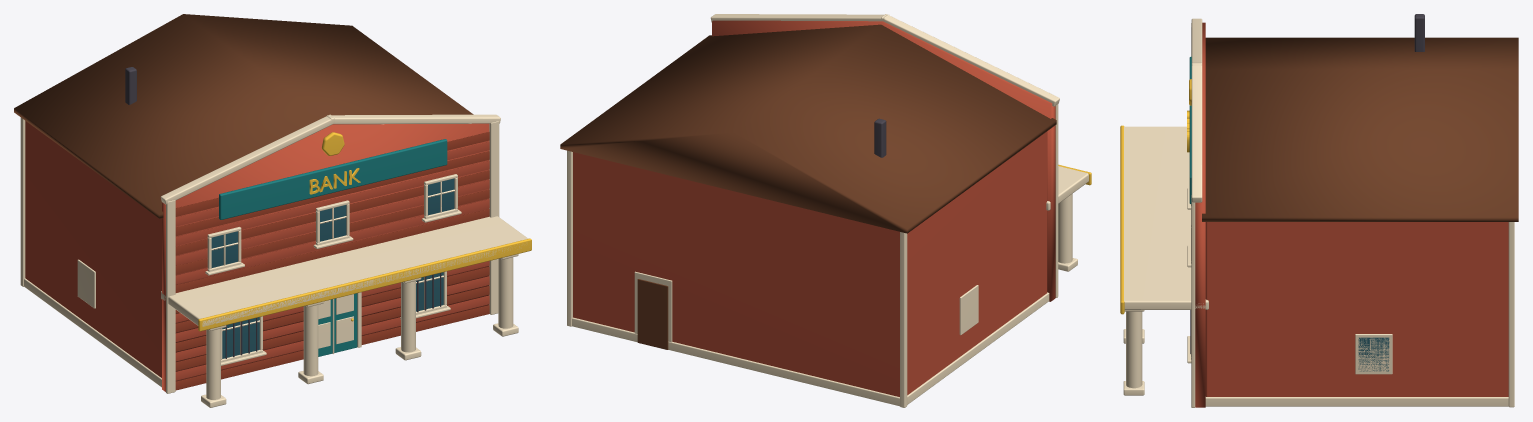
The model's file is gulch_bank.glb.
3 renders of one model, left to right at view 1: azimuth 30°, elevation 25°; view 2: azimuth 150°, elevation 25°; view 3: azimuth 270°, elevation 25°, orthographic. The views are drawn at different scales.
Visible parts, largest first — view 1: Bank; view 2: Bank; view 3: Bank.
Boxes of the visible parts, x1,y1,x2,y2 form: Bank: (14,14,531,407); Bank: (560,14,1091,407); Bank: (1120,14,1518,407).
Size of the model in its own units: 12.5 by 8.32 by 11.7.
